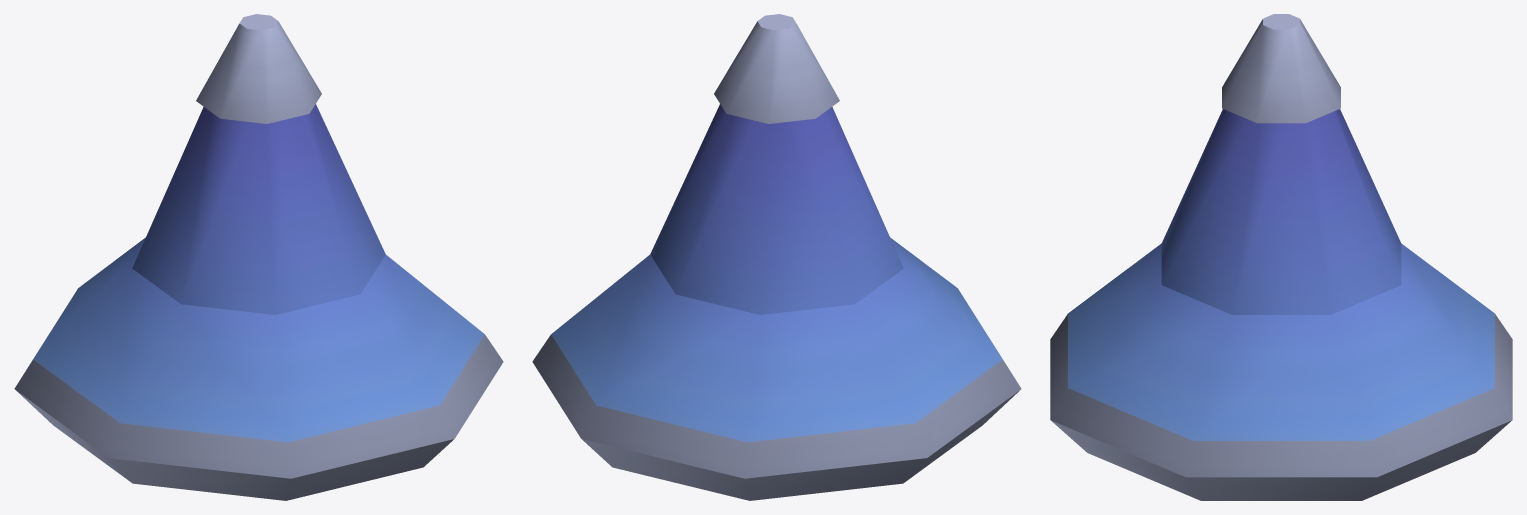
The model's file is tower-roof.glb.
The picture shows the model from 3 angles, left to right: view 1: azimuth 30°, elevation 25°; view 2: azimuth 150°, elevation 25°; view 3: azimuth 270°, elevation 25°; orthographic projection.
Visible parts, largest first — view 1: tower-roof; view 2: tower-roof; view 3: tower-roof.
Part boxes in pixels (<box>): tower-roof: <box>14,14,503,500</box>; tower-roof: <box>532,14,1021,500</box>; tower-roof: <box>1050,14,1512,500</box>.
Bounding box in the file's own units: 3.63 × 3.44 × 3.63.
Materials: 1 (1 with a texture image).
